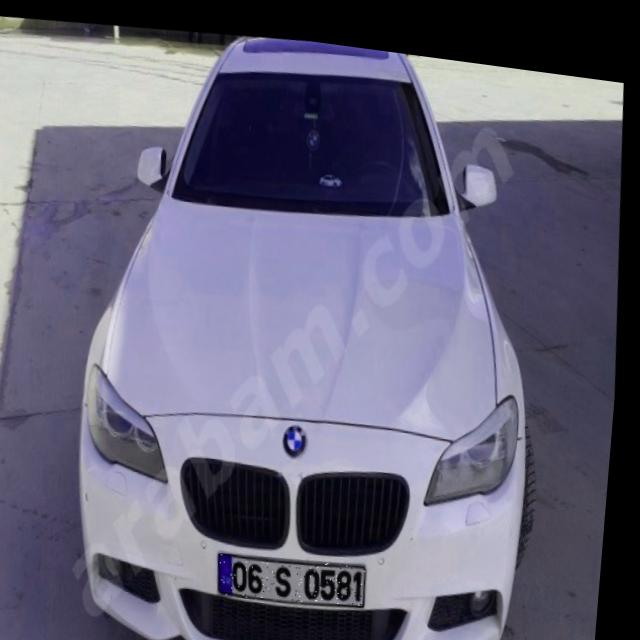license_plate: (225, 538, 377, 605)
